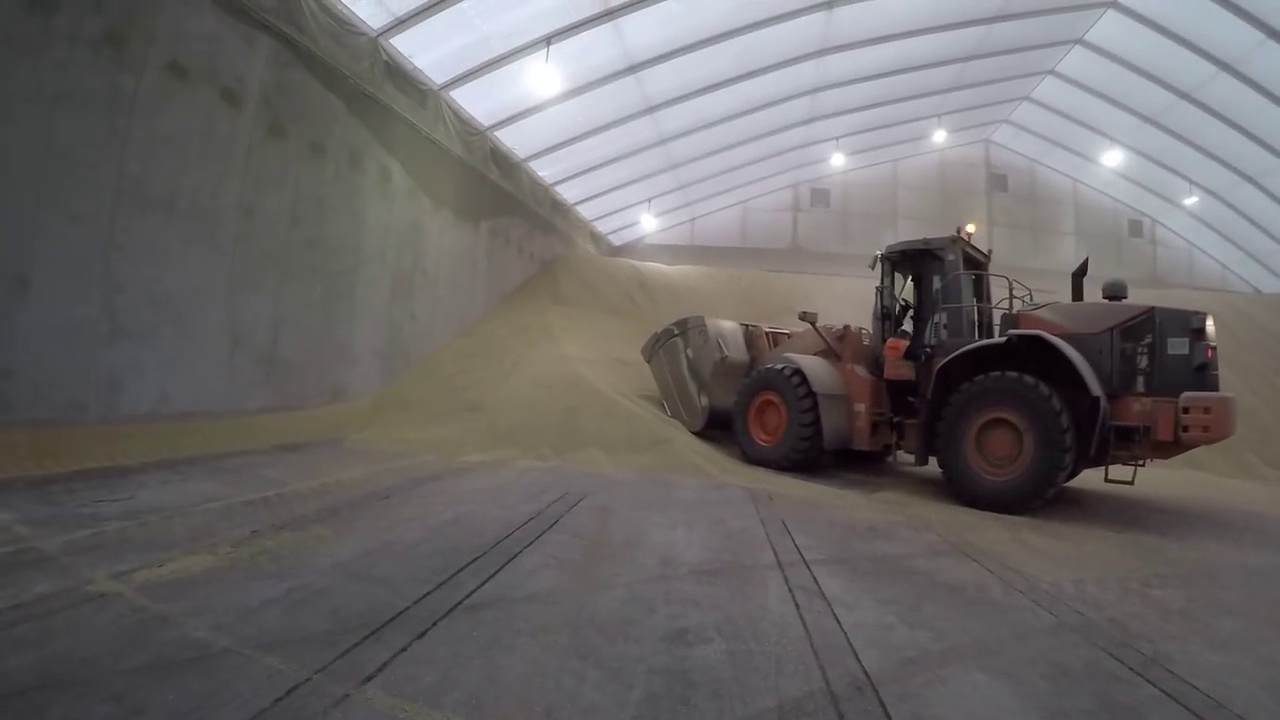wheel loader: (639, 233, 1236, 510)
